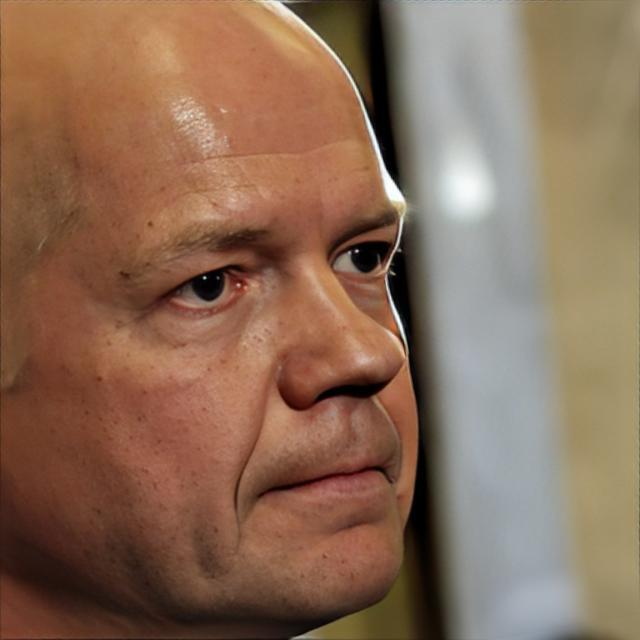anger: (38, 49, 420, 624)
